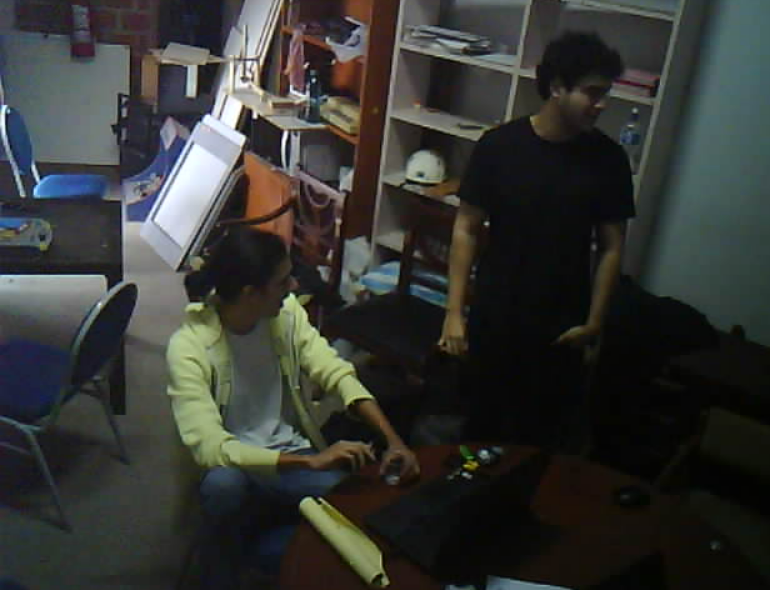person: (435, 18, 660, 463), (158, 221, 424, 590)
